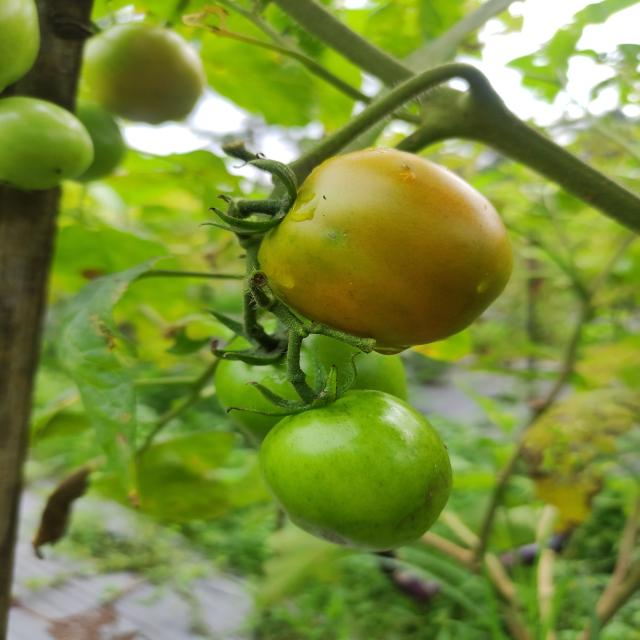ripe tomato: (255, 146, 515, 356)
unripe tomato: (257, 388, 453, 553), (78, 21, 206, 126), (213, 349, 315, 443), (0, 95, 95, 191)
